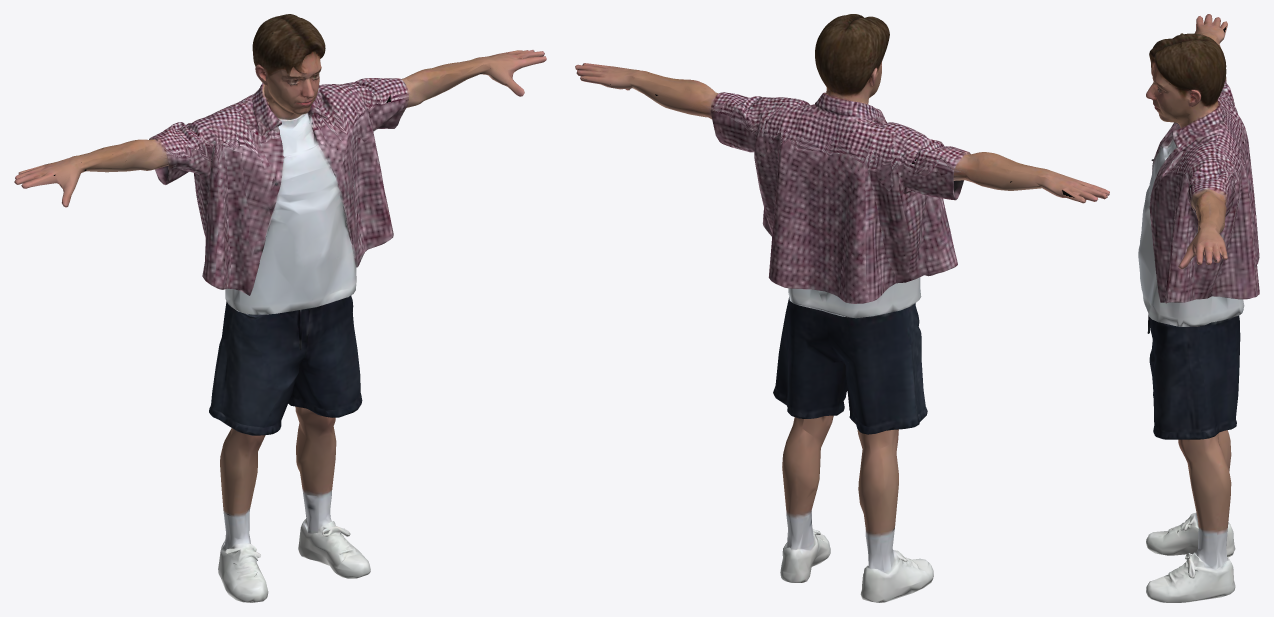
File: tommy.glb
3 renders of one model, left to right at view 1: azimuth 30°, elevation 25°; view 2: azimuth 150°, elevation 25°; view 3: azimuth 270°, elevation 25°, orthographic. The views are drawn at different scales.
Parts seen in each view (by area): view 1: tommy; view 2: tommy; view 3: tommy.
Boxes of the visible parts, x1,y1,x2,y2 form: tommy: (14,14,546,602); tommy: (575,14,1109,602); tommy: (1138,14,1259,602).
Bounding box in the file's own units: 1.67 × 1.68 × 0.3457.
Materials: 1 (1 with a texture image).
